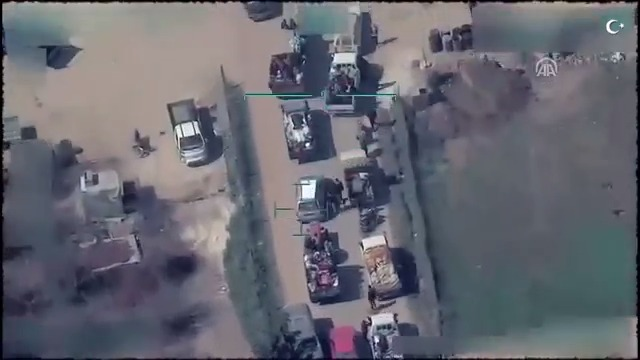arac: (167, 91, 217, 172), (299, 216, 344, 304), (358, 229, 410, 298), (337, 144, 381, 209), (321, 50, 365, 114), (291, 169, 338, 225), (276, 96, 315, 163), (361, 308, 410, 360)
